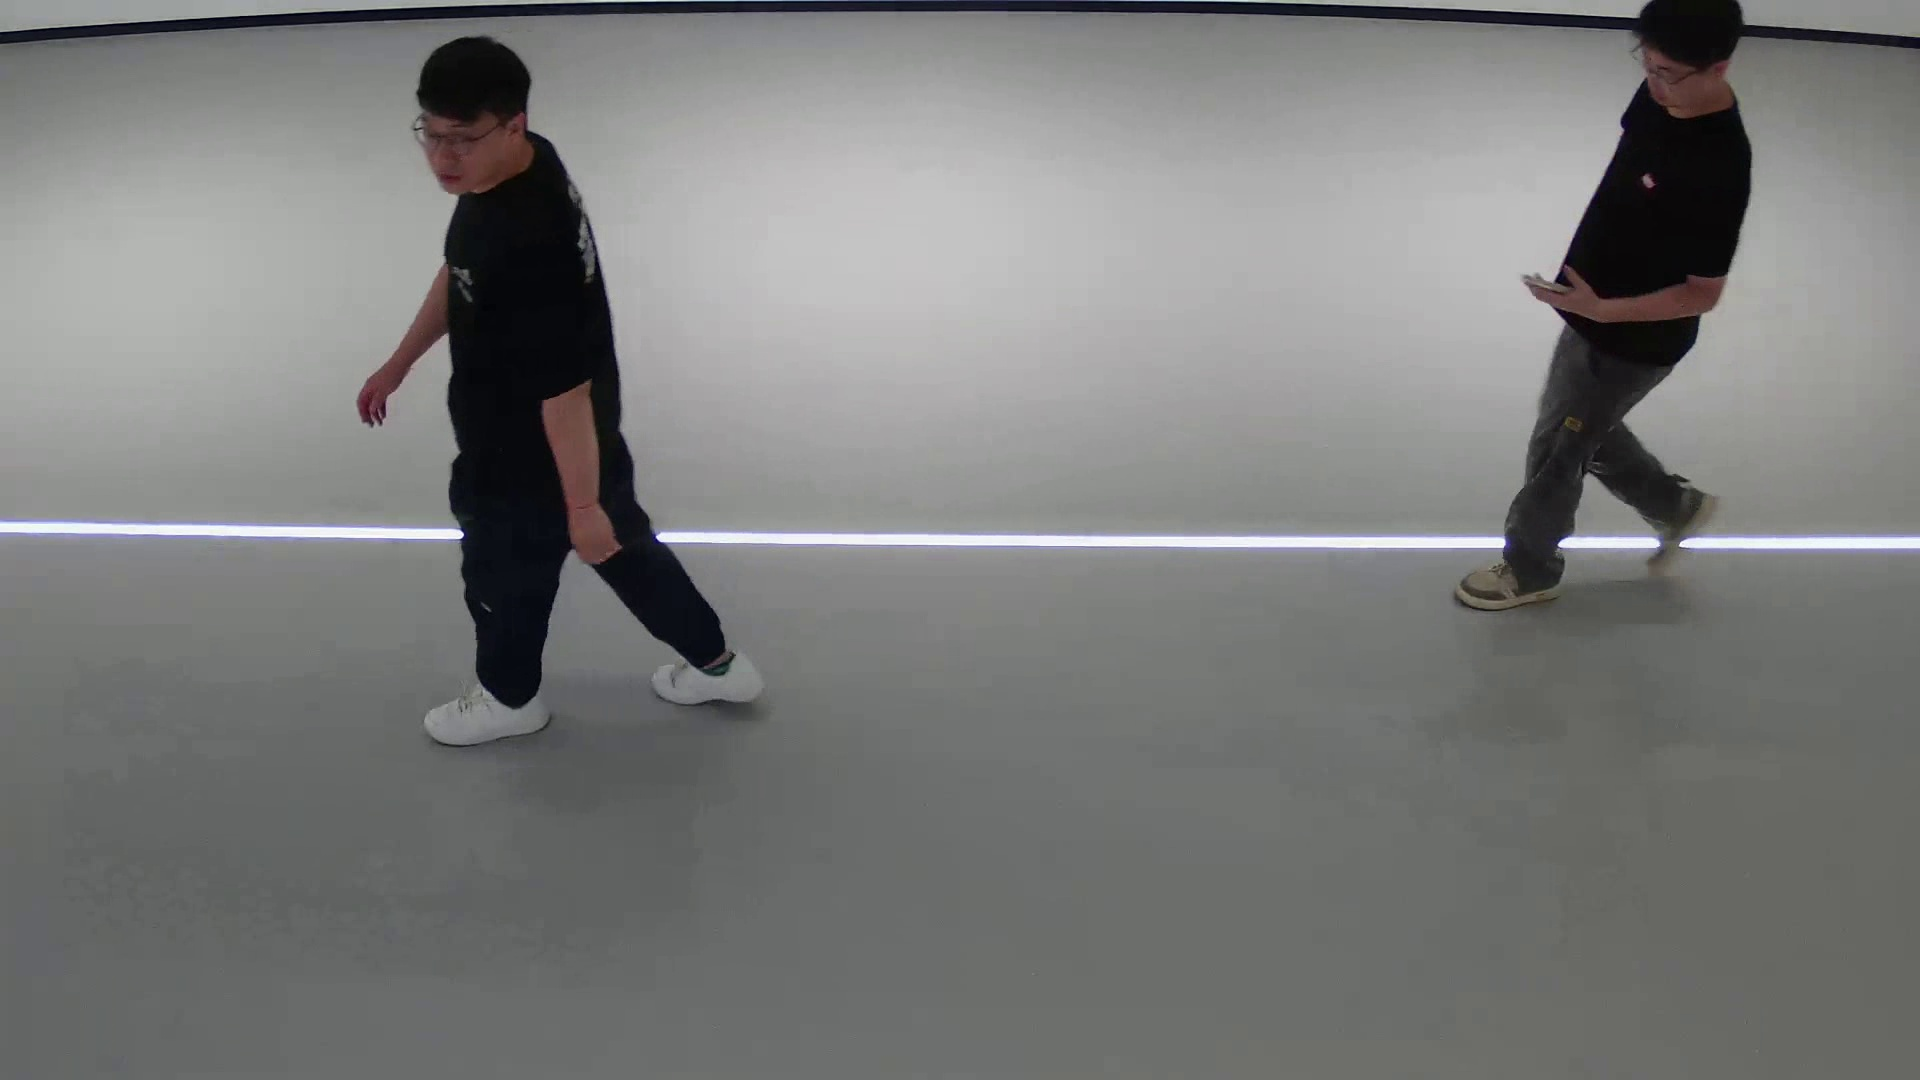normal: (314, 38, 791, 752), (1412, 1, 1768, 638)
